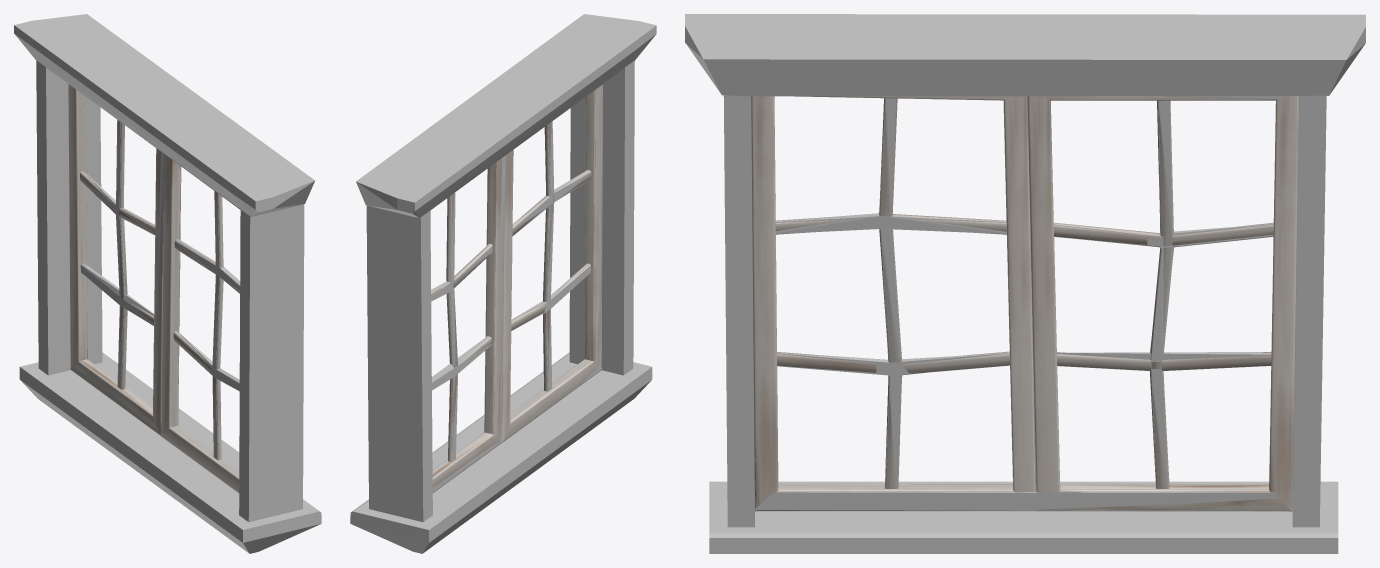
The model's file is SM_PropWindow01TypeB_2_2.fbx.
3 views of the same model, side by side, from view 1: azimuth 30°, elevation 25°; view 2: azimuth 150°, elevation 25°; view 3: azimuth 270°, elevation 25° (orthographic). The views are drawn at different scales.
Visible parts, largest first — view 1: SM_PropWindow01TypeB_2_2_ConvexHulls, SM_PropWindow01TypeB_2_2; view 2: SM_PropWindow01TypeB_2_2_ConvexHulls, SM_PropWindow01TypeB_2_2; view 3: SM_PropWindow01TypeB_2_2_ConvexHulls, SM_PropWindow01TypeB_2_2.
Boxes of the visible parts, x1,y1,x2,y2 form: SM_PropWindow01TypeB_2_2_ConvexHulls: (14, 14, 321, 553); SM_PropWindow01TypeB_2_2: (68, 84, 240, 493); SM_PropWindow01TypeB_2_2_ConvexHulls: (350, 14, 656, 553); SM_PropWindow01TypeB_2_2: (431, 68, 624, 492); SM_PropWindow01TypeB_2_2_ConvexHulls: (685, 14, 1365, 553); SM_PropWindow01TypeB_2_2: (751, 96, 1298, 511).
Size of the model in its own units: 44.89 by 238 by 198.
Materials: 2 (1 with a texture image).
